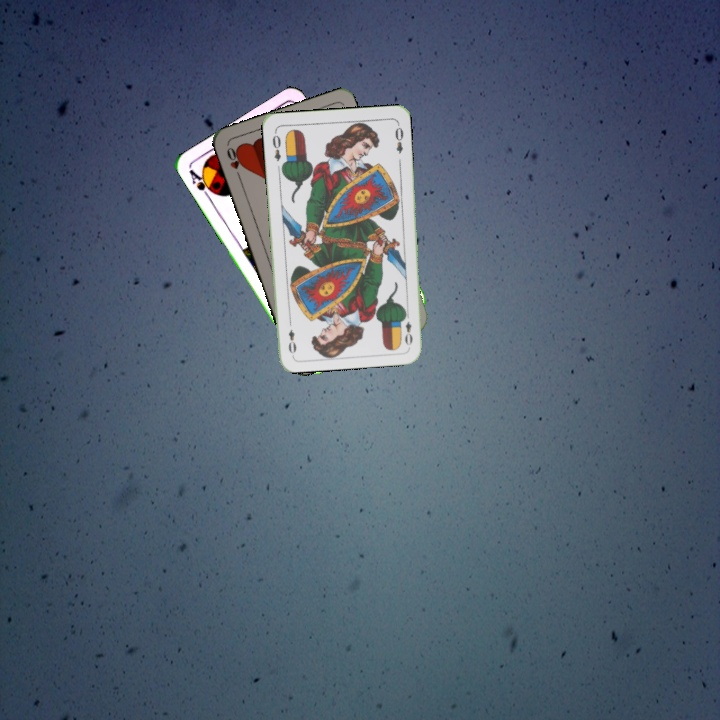EO: (399, 308, 415, 347), (268, 128, 283, 164)
HO: (223, 143, 245, 181)
SA: (185, 165, 218, 201)
